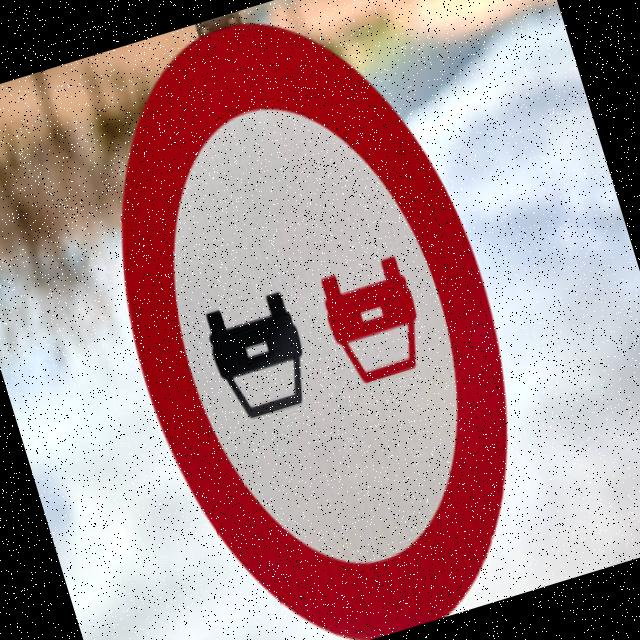no_passing: (46, 0, 580, 640)
